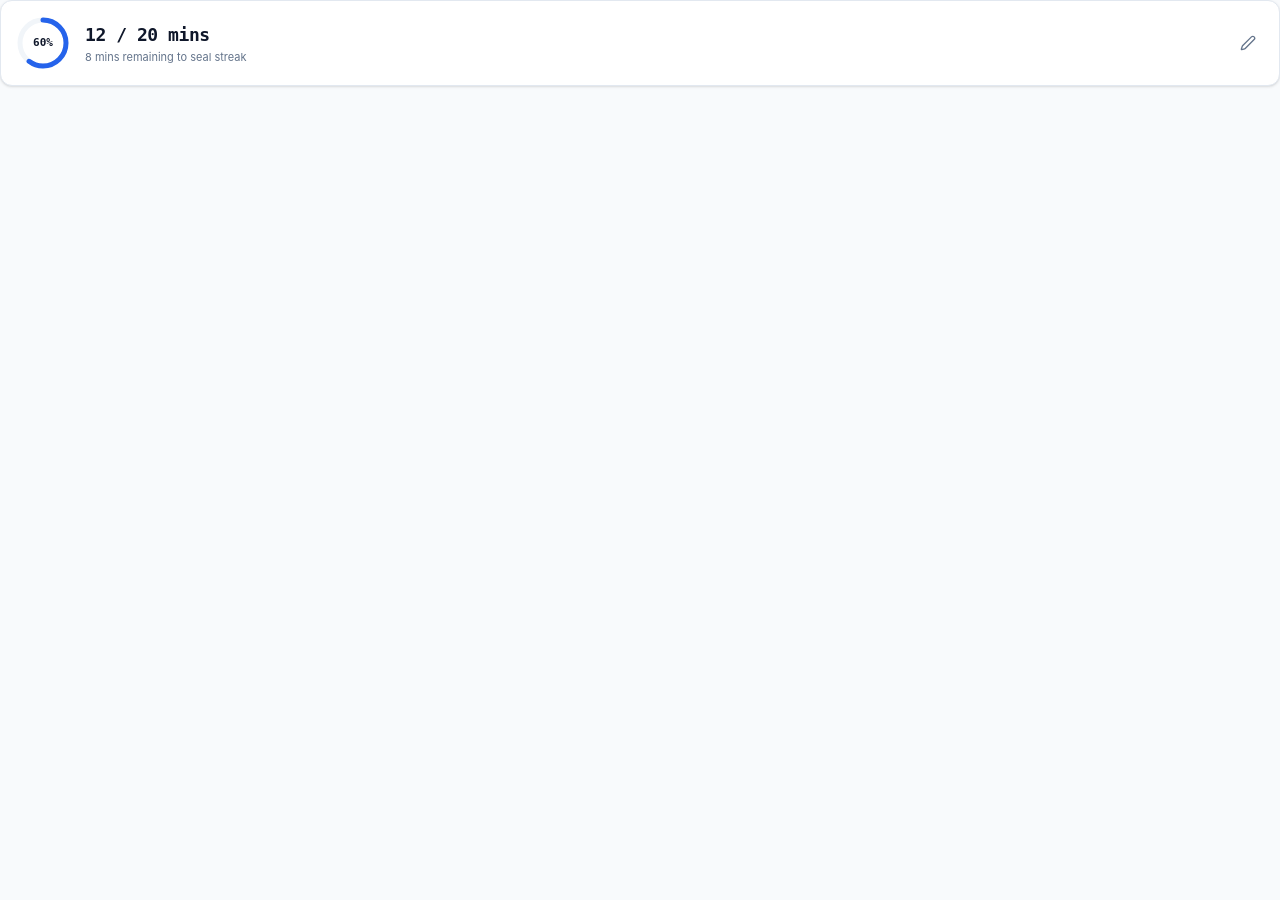
DailyGoalCapsule (W-02) › opens edit modal, validates target minutes, and calls onUpdateGoal
Later steps or results of the test are not shown.
# Click edit button
Click the button named "Edit daily practice goal" at (1248, 43), box [1231,26,1265,60]
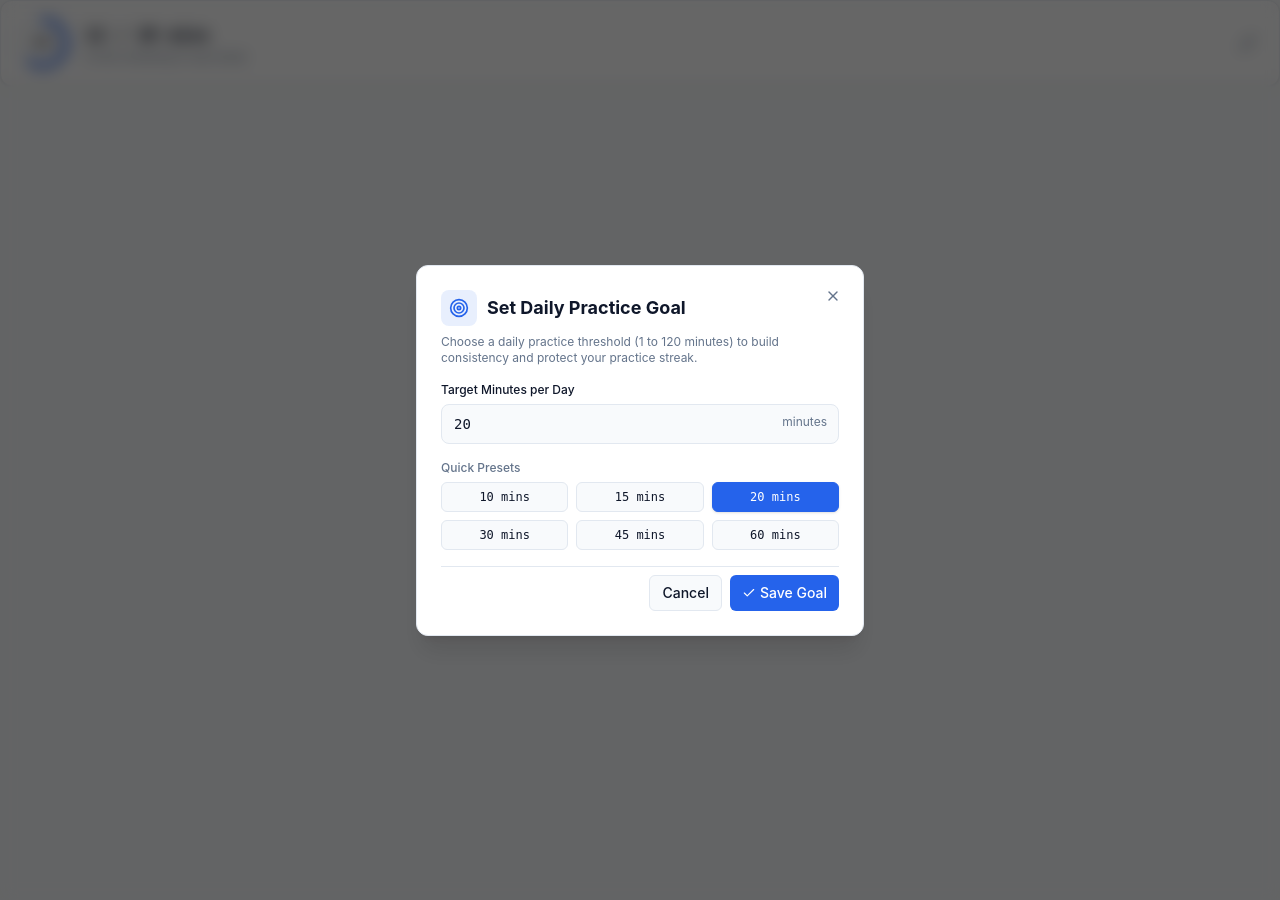
Check: the dialog is shown
Check: the heading "Set Daily Practice Goal" is shown, box [487,294,686,322]
Check: the number field labelled "Target Minutes per Day" holds "20", box [441,404,839,444]
